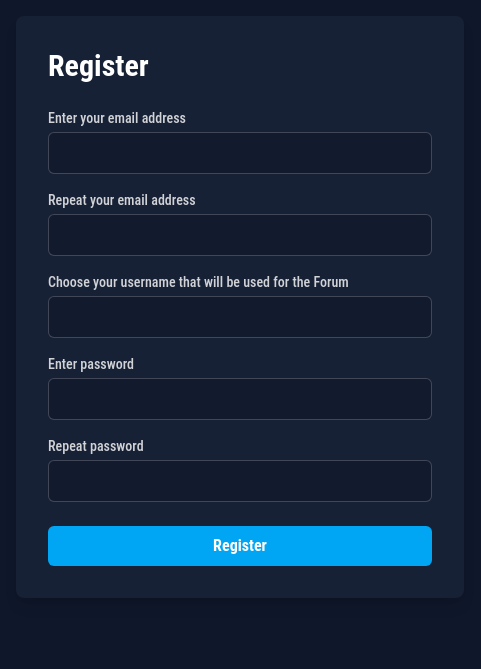
Test: Register page › shows an inline error and blocks submission when passwords do not match
Type "yuki@example.com" into the field labelled "Enter your email address" at x=240, y=153, box [48,132,432,174]
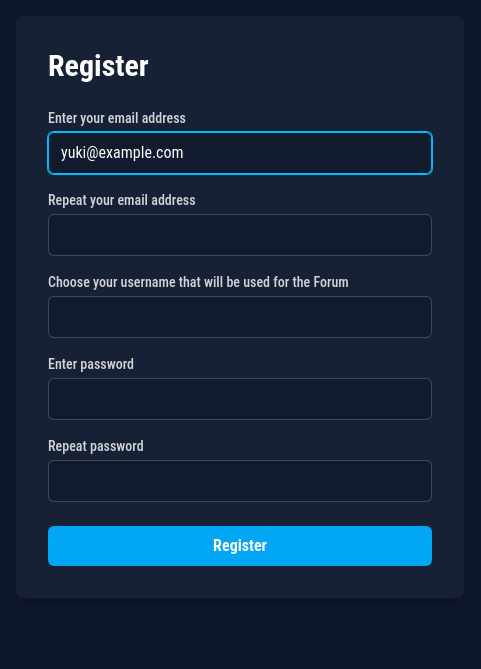
Type "yuki@example.com" into the field labelled "Repeat your email address" at x=240, y=235, box [48,214,432,256]
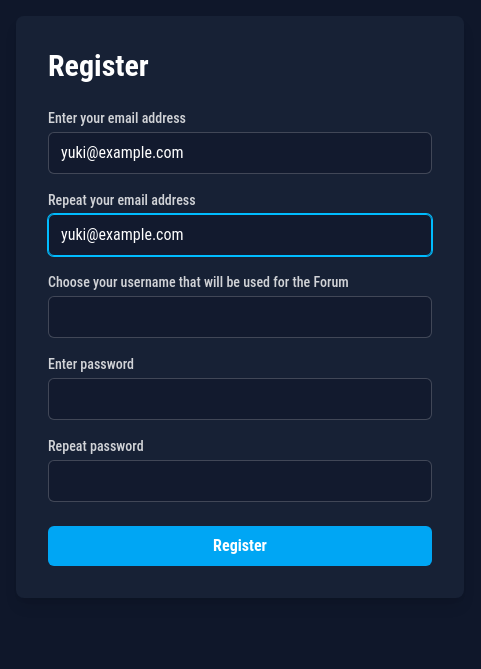
Type "yuki" into the field labelled "Choose your username that will be used for the Forum" at x=240, y=317, box [48,296,432,338]
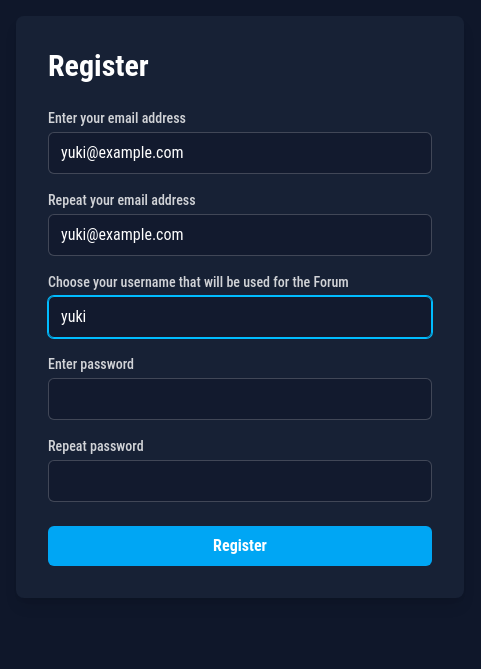
Type "password123" into the password field labelled "Enter password" at x=240, y=399, box [48,378,432,420]
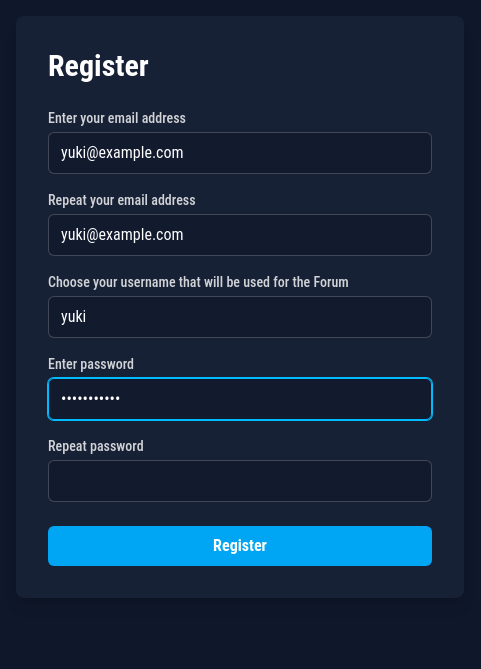
Type "password456" into the password field labelled "Repeat password" at x=240, y=481, box [48,460,432,502]
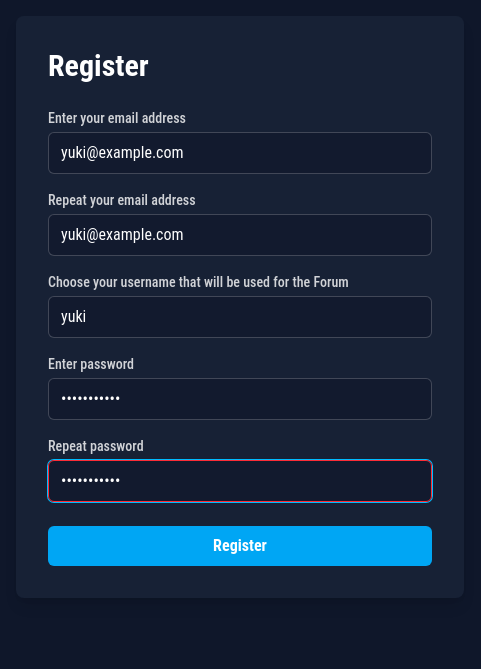
Click the button "Register" at x=240, y=546, box [48,526,432,566]
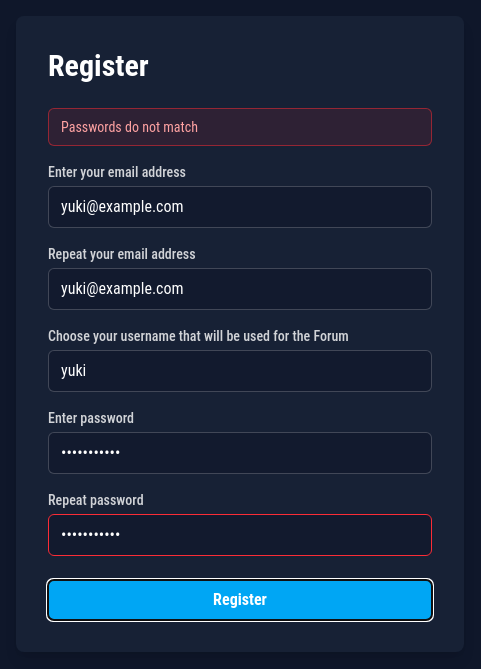
Check: the text "Passwords do not match" is shown, box [48,108,432,146]
